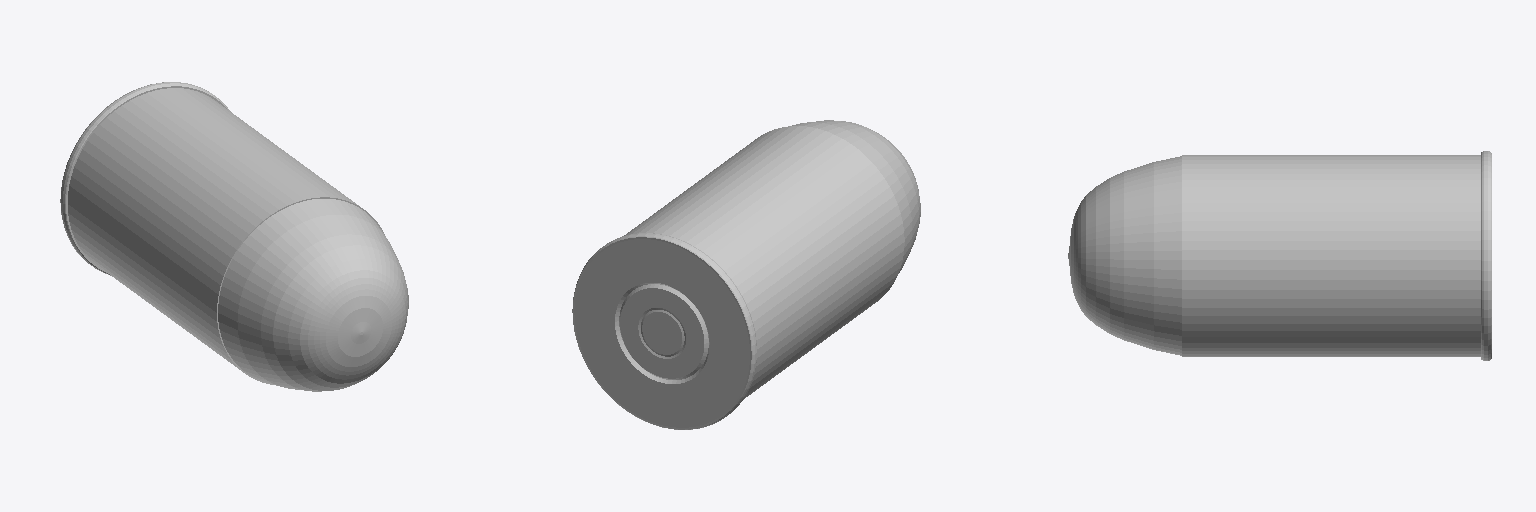
Rendered from bullet_9x18mm.obj.
3 views of the same model, side by side, from view 1: azimuth 30°, elevation 25°; view 2: azimuth 150°, elevation 25°; view 3: azimuth 270°, elevation 25° (orthographic).
Parts seen in each view (by area): view 1: Cilindre; view 2: Cilindre; view 3: Cilindre.
Boxes of the visible parts, x1=… form: Cilindre: x1=60, y1=82, x2=408, y2=391; Cilindre: x1=572, y1=120, x2=920, y2=429; Cilindre: x1=1068, y1=151, x2=1491, y2=360.
Bounding box in the file's own units: 0.6998 × 0.6998 × 1.41.